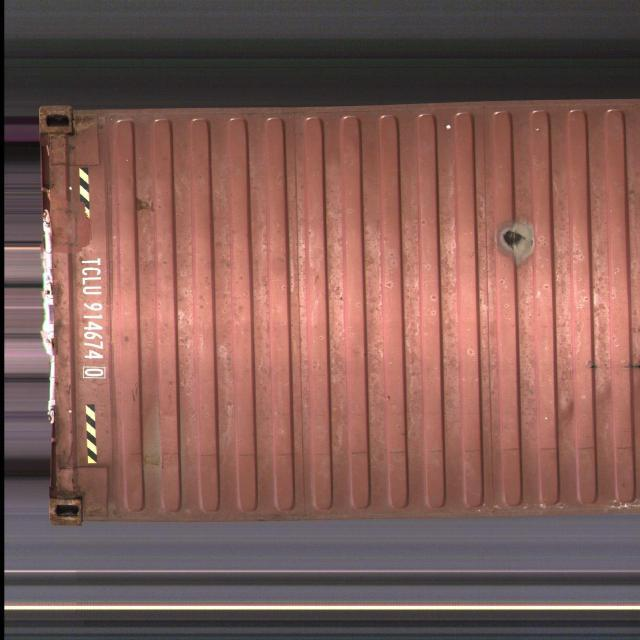hole: (504, 230, 528, 251)
